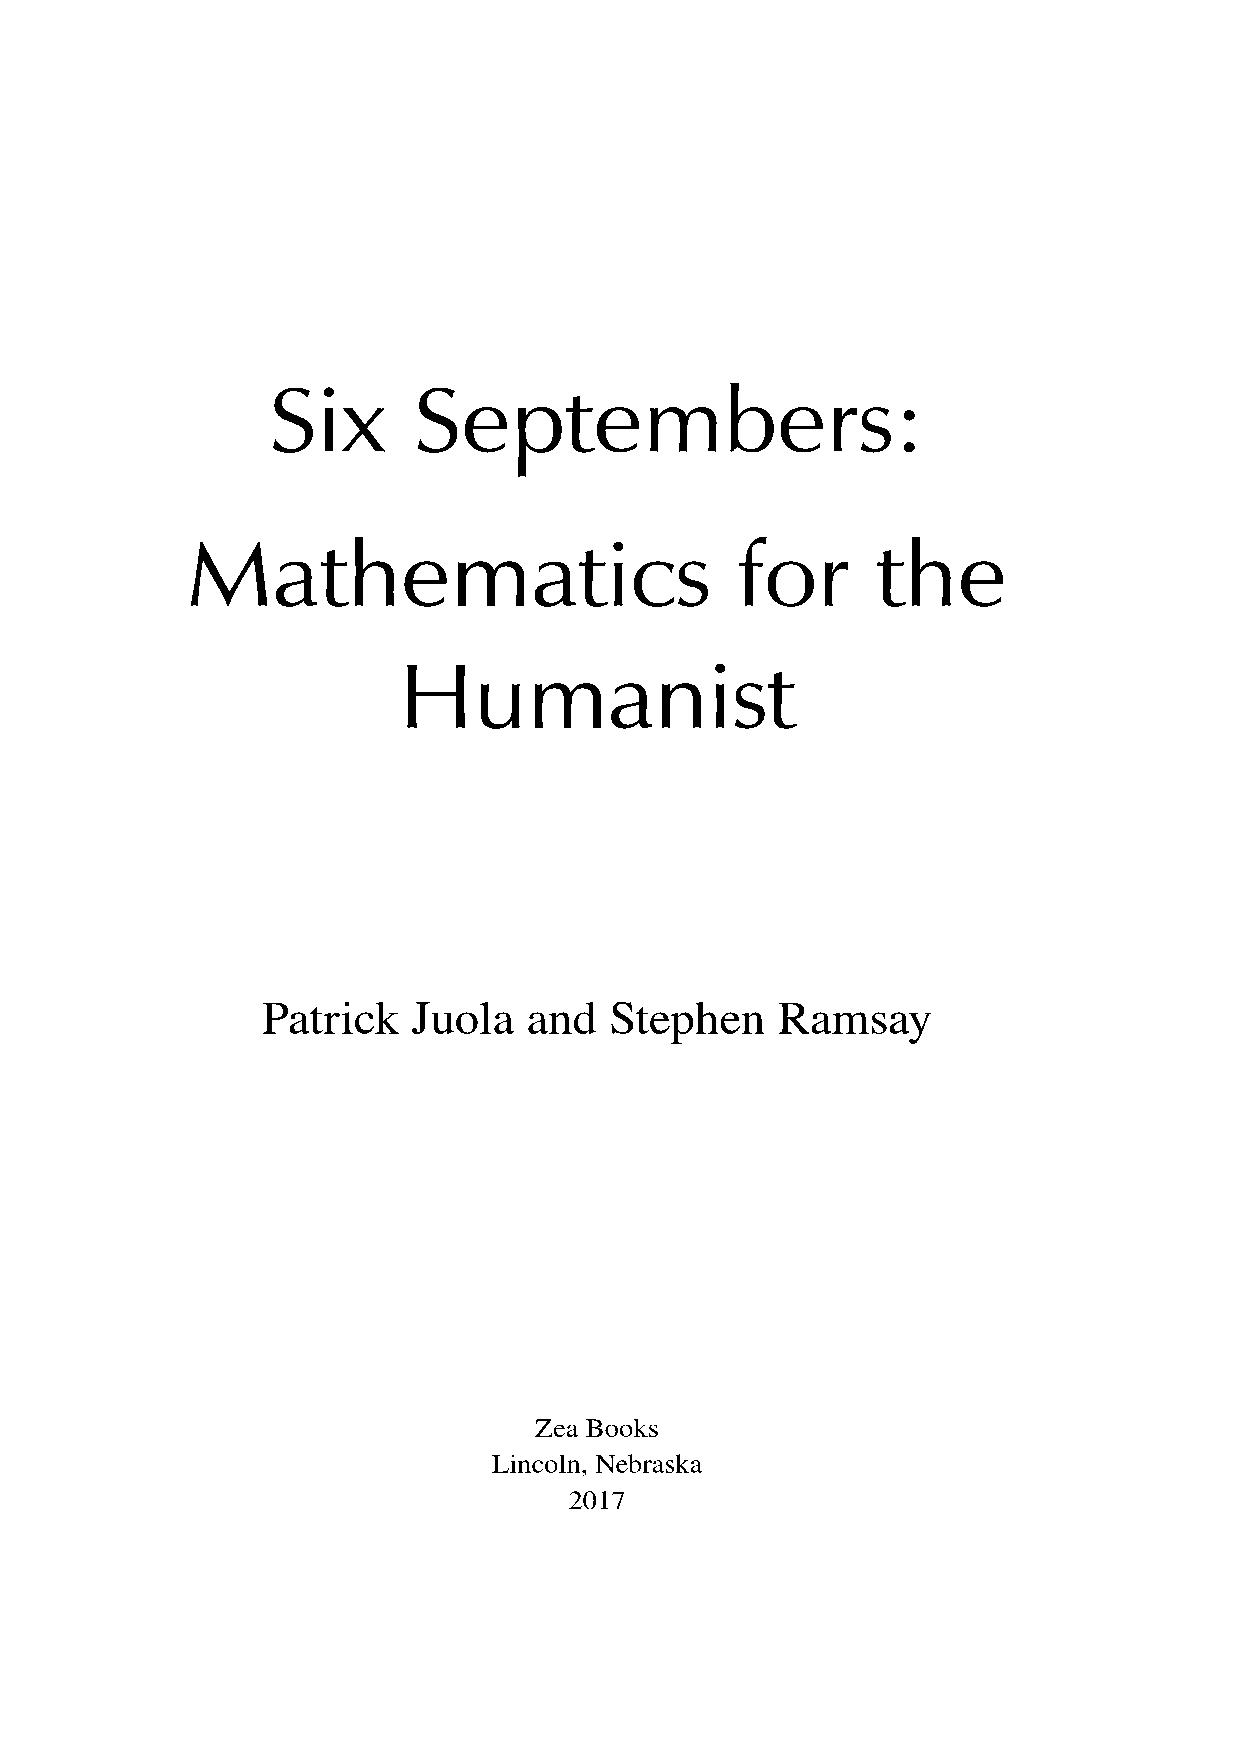author: (258, 994, 929, 1047)
title: (184, 378, 1004, 731)
